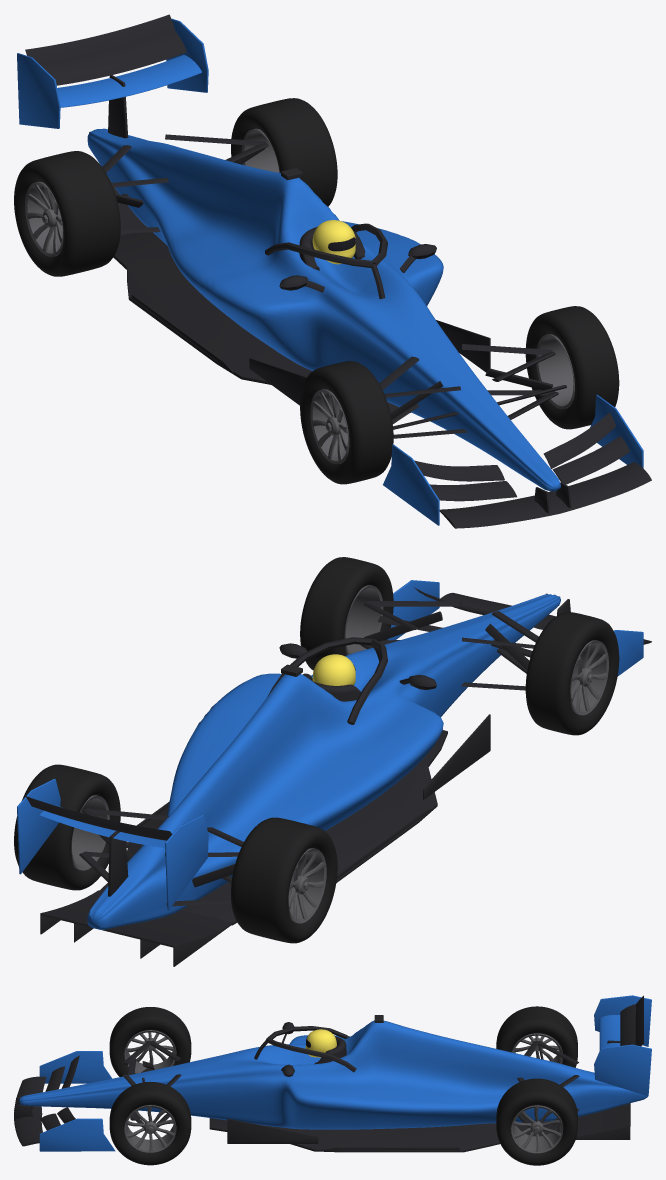
3 renders of one model, top to bottom at view 1: azimuth 30°, elevation 25°; view 2: azimuth 150°, elevation 25°; view 3: azimuth 270°, elevation 25°, orthographic. The views are drawn at different scales.
Visible parts, largest first — view 1: body, carbon, tyre_RR, tyre_FR, tyre_FL, tyre_RL, rim_FR, rim_RR, rim_FL, helmet, rim_RL; view 2: body, carbon, tyre_RR, tyre_FR, tyre_RL, tyre_FL, rim_FR, rim_RR, rim_FL, rim_RL, helmet; view 3: body, carbon, tyre_RL, tyre_FL, tyre_FR, tyre_RR, rim_RL, rim_FL, rim_FR, rim_RR, helmet.
Part boxes in pixels (x1=…): body: x1=17, y1=18, x2=643, y2=525; carbon: x1=25, y1=14, x2=651, y2=528; tyre_RR: x1=14, y1=151, x2=120, y2=276; tyre_FR: x1=300, y1=361, x2=393, y2=484; tyre_FL: x1=525, y1=306, x2=619, y2=429; tyre_RL: x1=231, y1=98, x2=337, y2=206; rim_FR: x1=310, y1=389, x2=349, y2=464; rim_RR: x1=25, y1=181, x2=63, y2=256; rim_FL: x1=536, y1=334, x2=574, y2=409; helmet: x1=312, y1=220, x2=355, y2=264; rim_RL: x1=241, y1=128, x2=279, y2=172; body: x1=17, y1=580, x2=643, y2=929; carbon: x1=25, y1=587, x2=651, y2=966; tyre_RR: x1=231, y1=817, x2=337, y2=943; tyre_FR: x1=525, y1=612, x2=619, y2=735; tyre_RL: x1=14, y1=764, x2=120, y2=890; tyre_FL: x1=300, y1=557, x2=393, y2=670; rim_FR: x1=570, y1=640, x2=608, y2=715; rim_RR: x1=288, y1=848, x2=326, y2=923; rim_FL: x1=344, y1=585, x2=383, y2=654; rim_RL: x1=71, y1=795, x2=109, y2=870; helmet: x1=312, y1=654, x2=355, y2=685; body: x1=19, y1=995, x2=651, y2=1151; carbon: x1=14, y1=995, x2=643, y2=1152; tyre_RL: x1=496, y1=1078, x2=577, y2=1165; tyre_FL: x1=109, y1=1081, x2=191, y2=1165; tyre_FR: x1=109, y1=1007, x2=191, y2=1076; tyre_RR: x1=496, y1=1006, x2=577, y2=1067; rim_RL: x1=511, y1=1105, x2=563, y2=1153; rim_FL: x1=124, y1=1105, x2=176, y2=1152; rim_FR: x1=124, y1=1030, x2=176, y2=1073; rim_RR: x1=511, y1=1033, x2=562, y2=1063; helmet: x1=305, y1=1029, x2=336, y2=1057.
Bounding box in the file's own units: 1.88 × 1.02 × 5.61.
